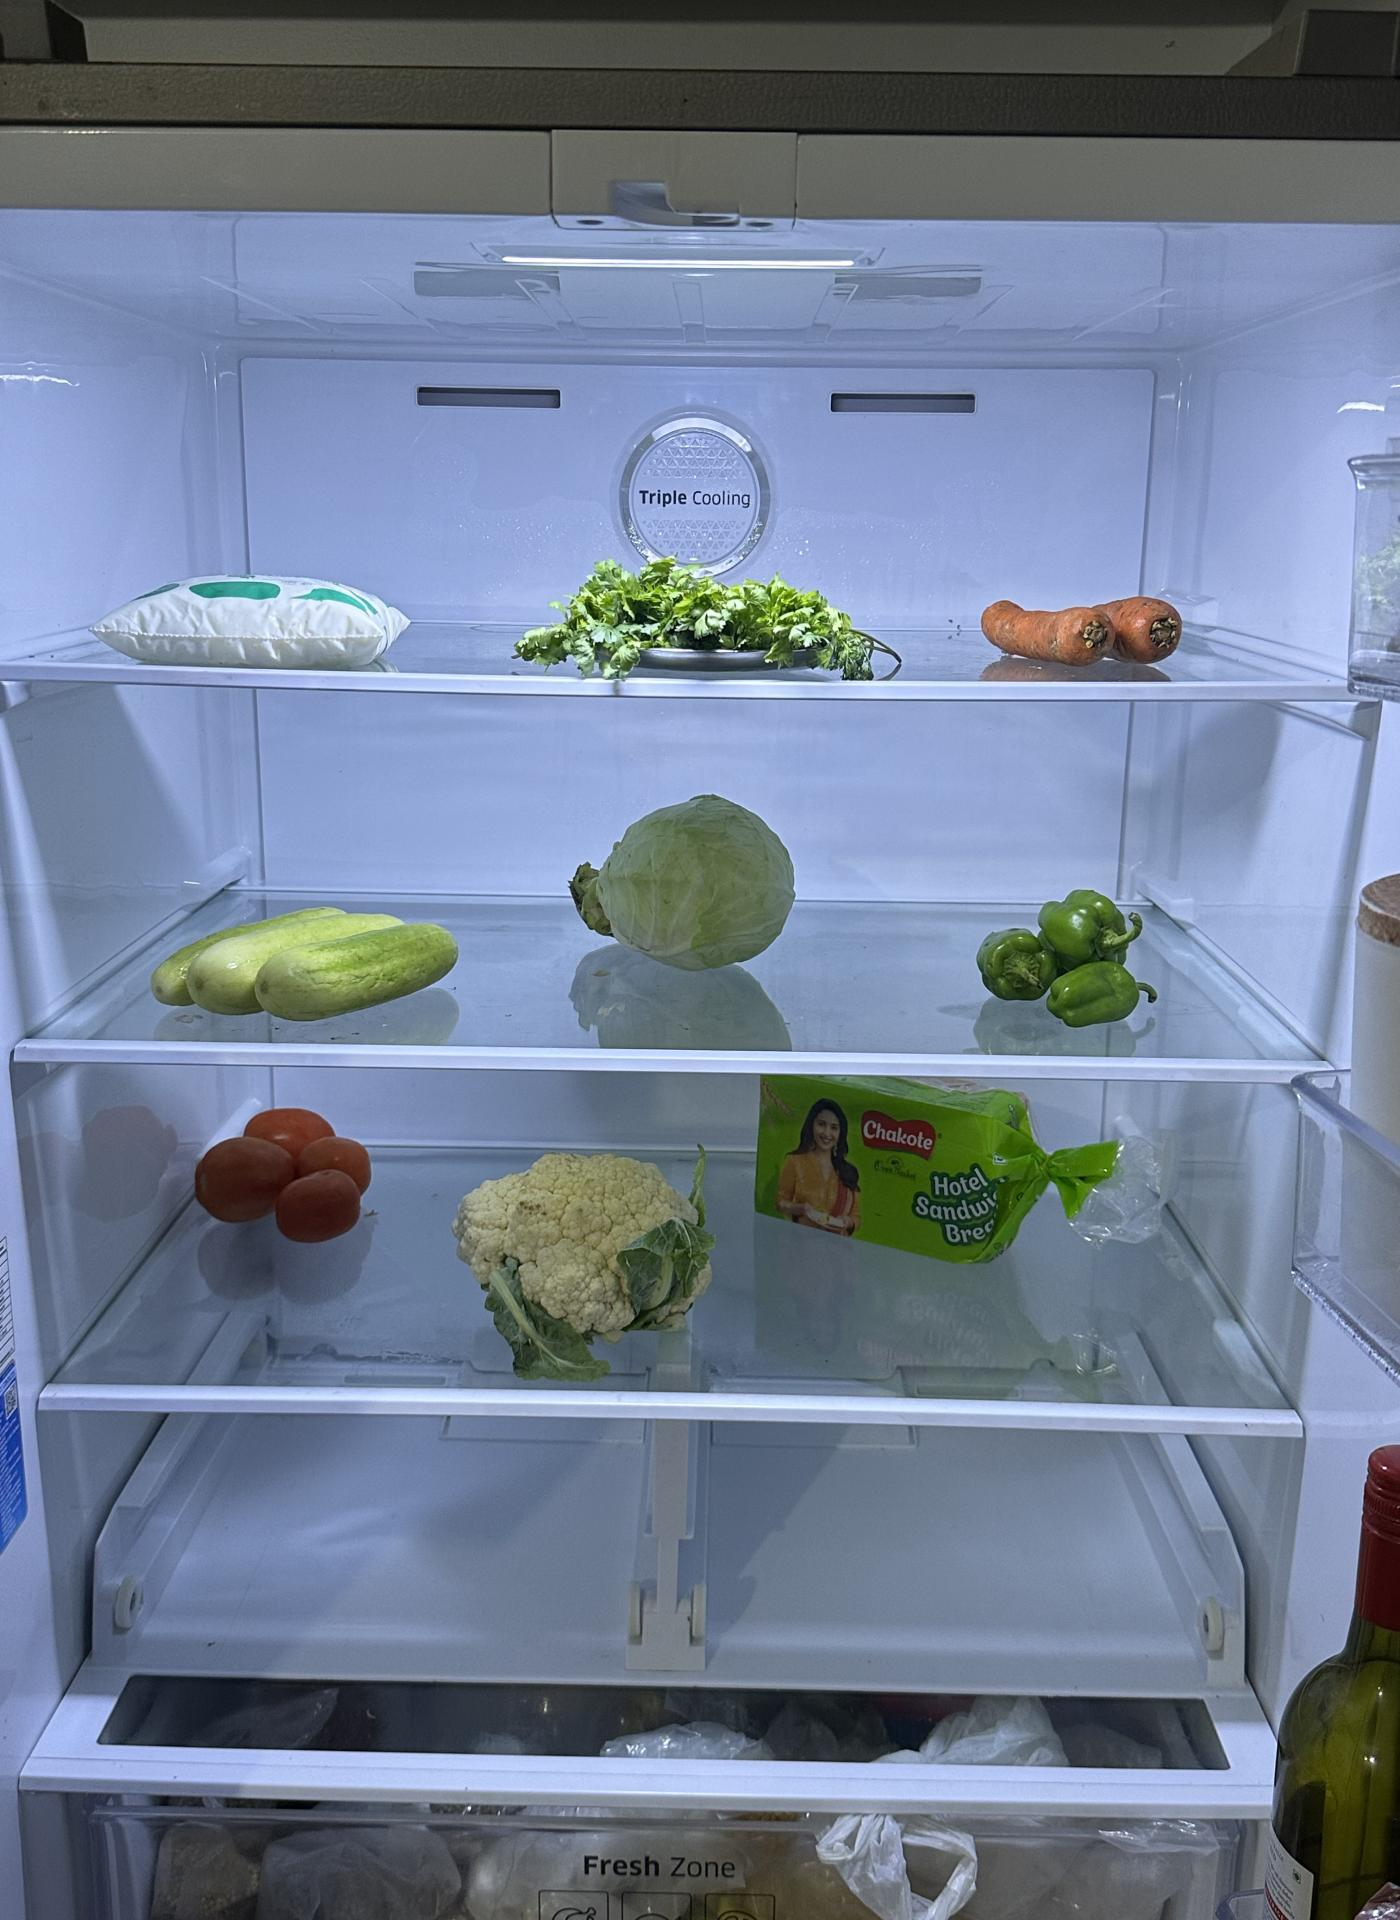bread: (748, 1075, 1051, 1266)
cabbage: (571, 784, 801, 964)
capsicum: (963, 871, 1145, 1023)
carrots: (978, 583, 1184, 674)
cauliflower: (464, 1146, 713, 1352)
coriander: (517, 543, 880, 672)
cucumber: (154, 905, 470, 1032)
milk: (88, 559, 412, 677)
tomato: (191, 1090, 379, 1234)
